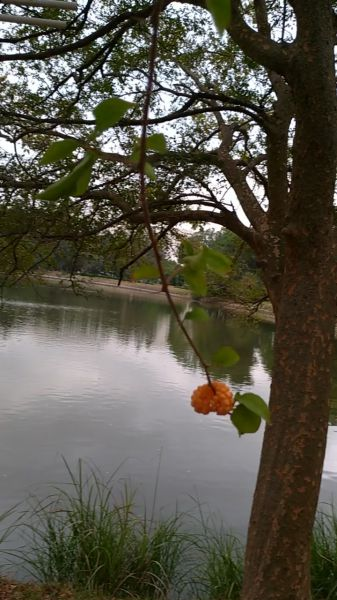eggs: (188, 381, 236, 420)
